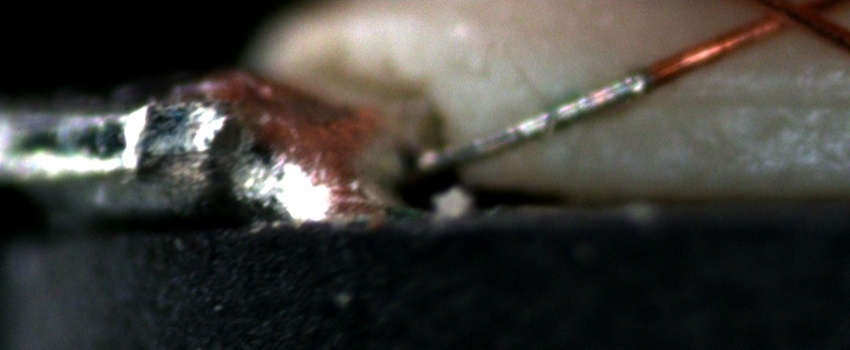CL: (750, 1, 827, 32)
DL: (635, 65, 850, 129)
TS: (412, 68, 649, 176)
